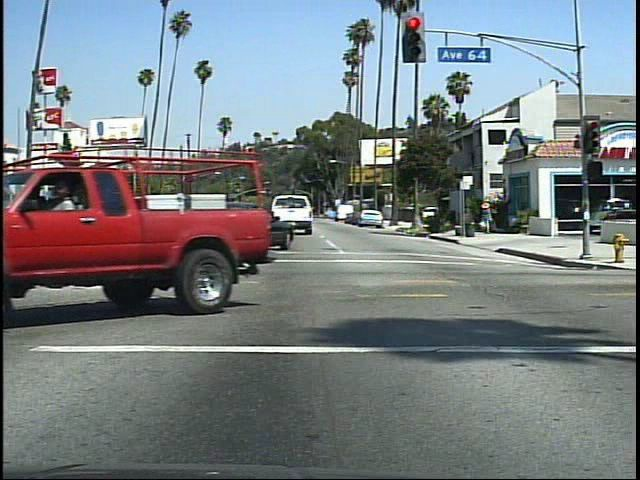person: (55, 174, 98, 311), (477, 199, 500, 238)
